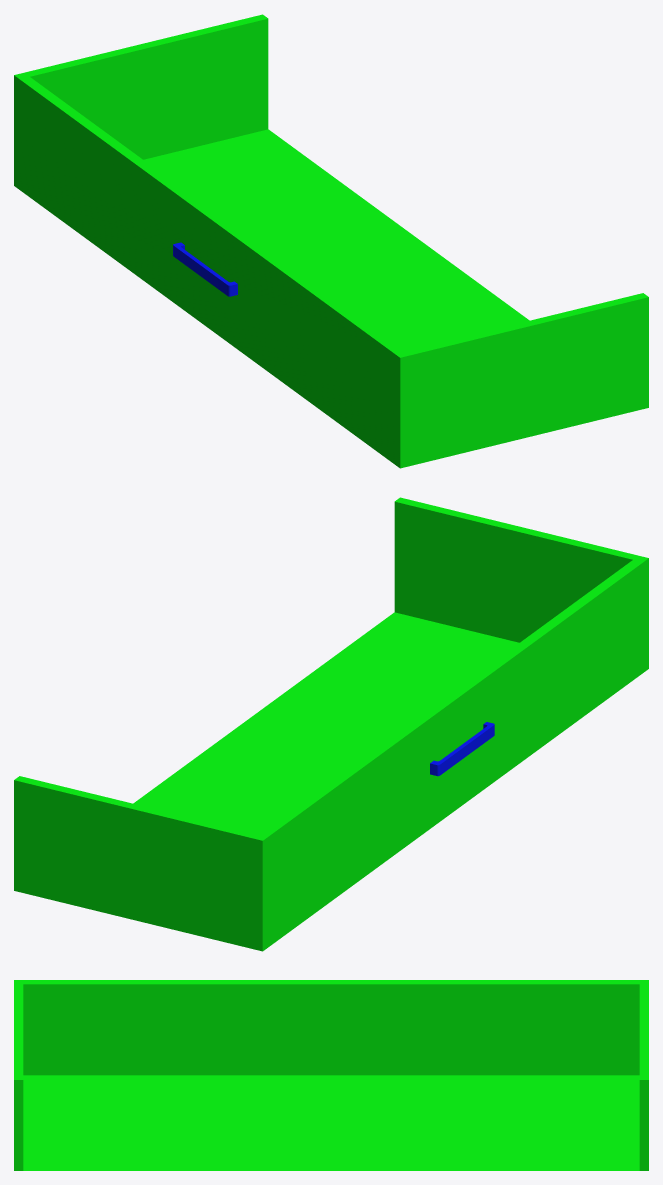
File: Drawer_2_Door_2.fbx
The picture shows the model from 3 angles, top to bottom: view 1: azimuth 30°, elevation 25°; view 2: azimuth 150°, elevation 25°; view 3: azimuth 270°, elevation 25°; orthographic projection. The views are drawn at different scales.
Parts seen in each view (by area): view 1: Drawer_2_Door_2; view 2: Drawer_2_Door_2; view 3: Drawer_2_Door_2.
Boxes of the visible parts, <box> form: Drawer_2_Door_2: <box>14,14,648,468</box>; Drawer_2_Door_2: <box>14,497,648,951</box>; Drawer_2_Door_2: <box>14,980,648,1170</box>.
Bounding box in the file's own units: 39.88 × 16.36 × 103.
